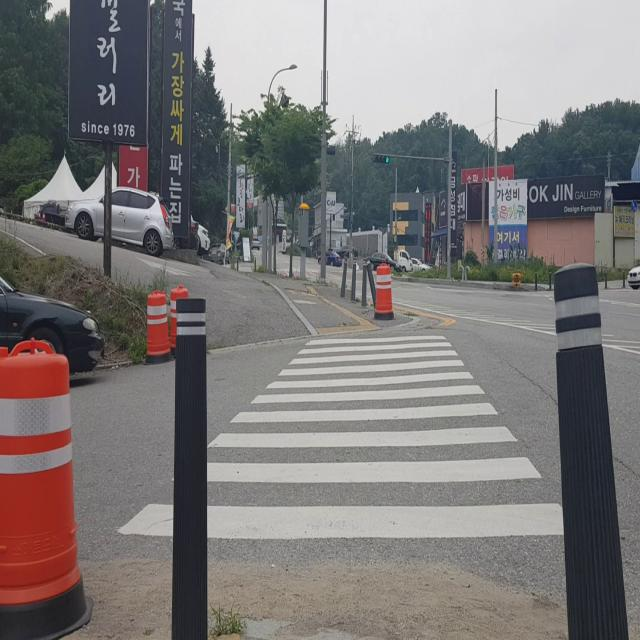횡단보도: (115, 327, 566, 545)
